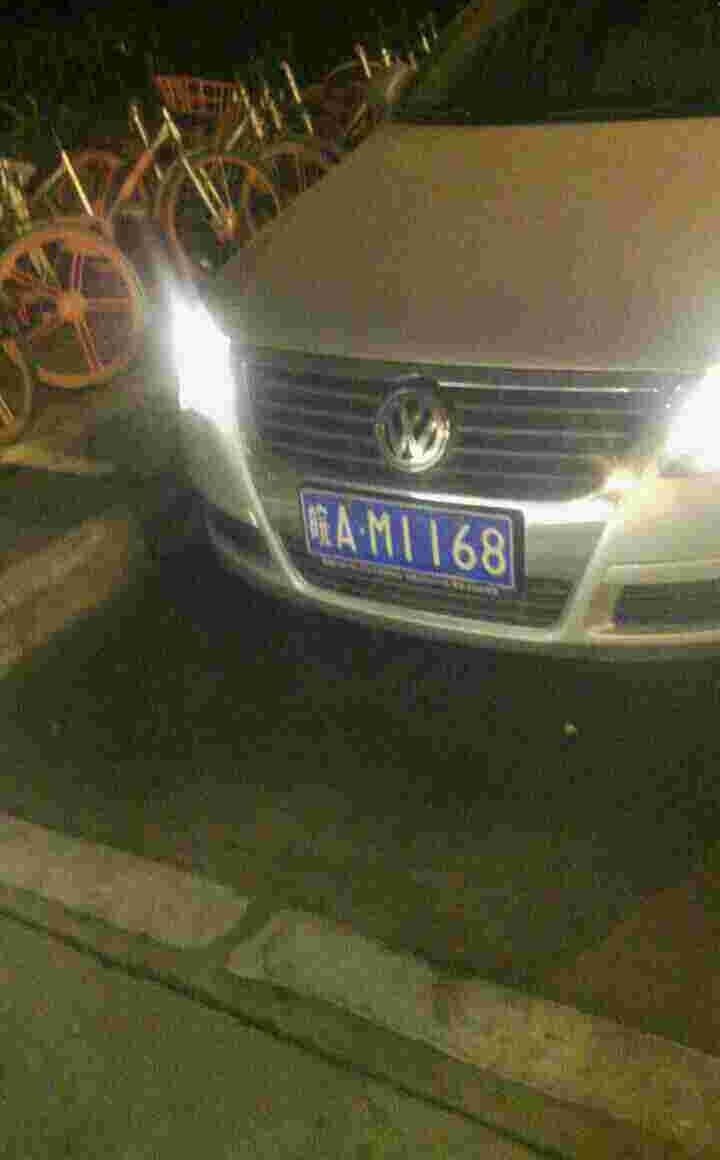license_plate: (306, 497, 528, 570)
